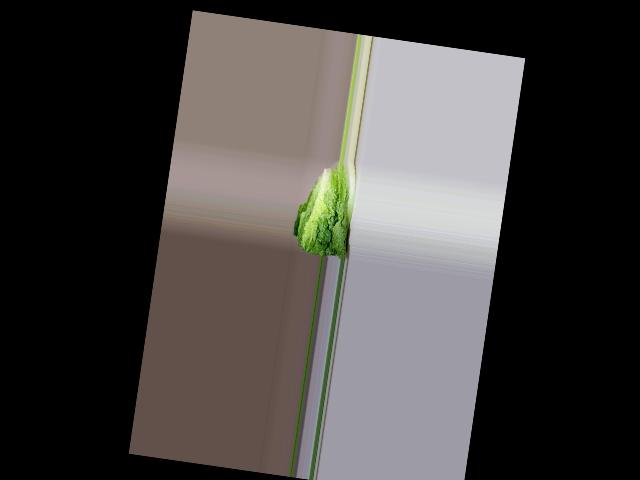lettuce: (297, 161, 361, 261)
